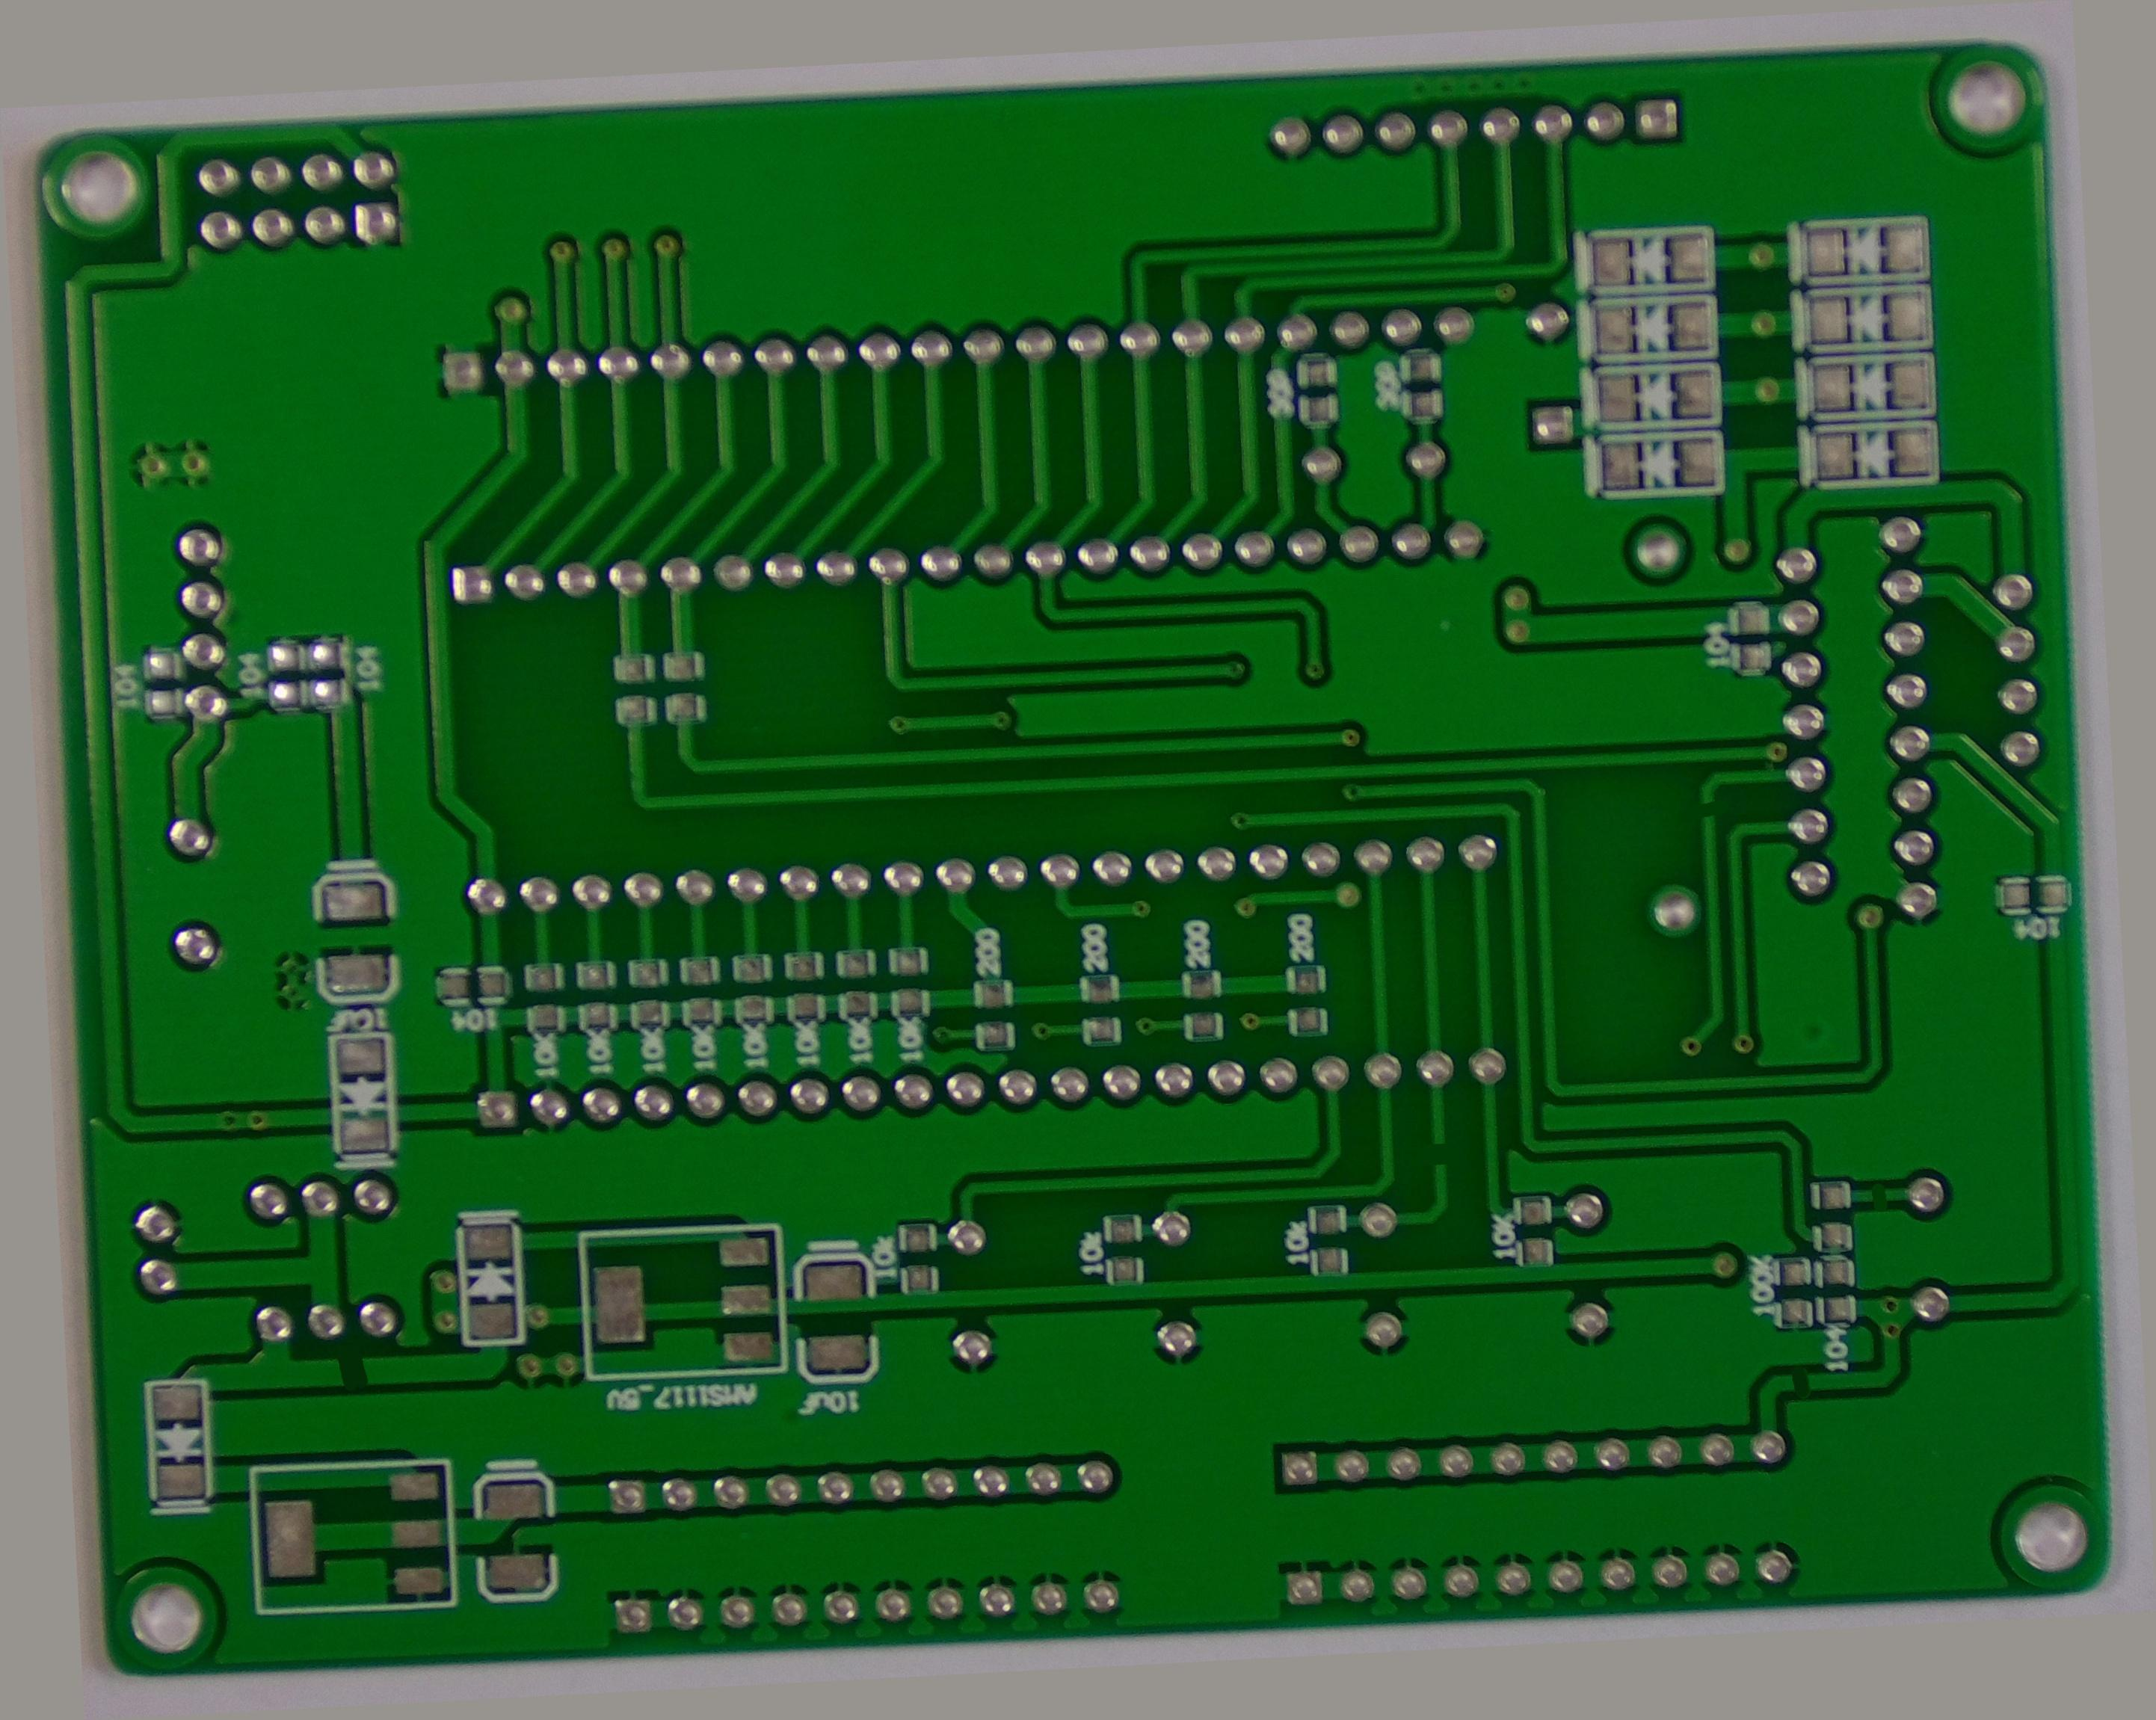open_circuit: (270, 1339, 323, 1383), (1419, 1176, 1457, 1211), (1780, 1439, 1815, 1471), (1721, 821, 1749, 858), (1873, 1246, 1907, 1274)
